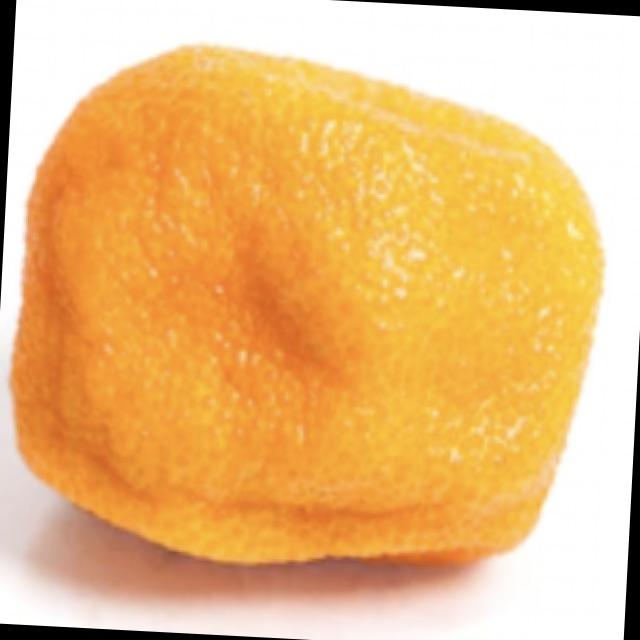rotten-orange: (2, 40, 611, 577)
